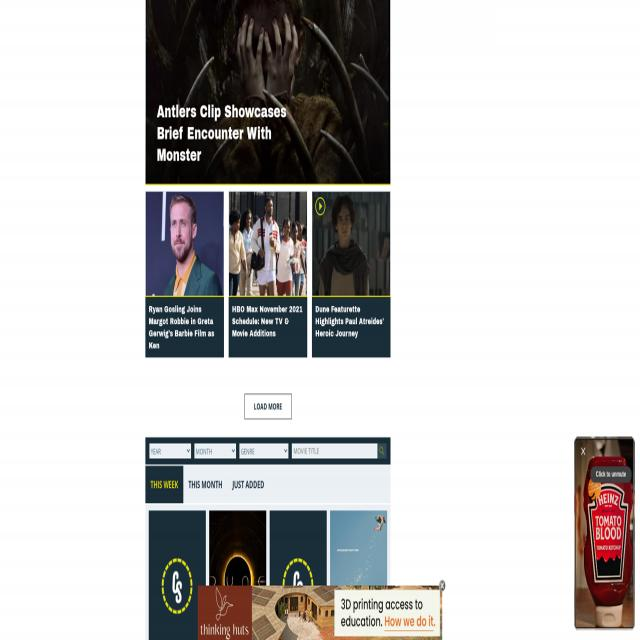button: (146, 0, 390, 184), (574, 435, 635, 629), (146, 192, 224, 296), (229, 192, 307, 296), (312, 192, 390, 296), (148, 509, 206, 640), (330, 510, 387, 584), (270, 510, 326, 585), (210, 512, 266, 586), (183, 466, 227, 504), (227, 466, 269, 504), (145, 466, 183, 504), (244, 394, 292, 419), (378, 443, 387, 459), (438, 579, 446, 591), (581, 445, 587, 459)
field: (292, 443, 377, 459), (240, 443, 288, 459), (149, 443, 191, 459), (194, 443, 236, 459)
